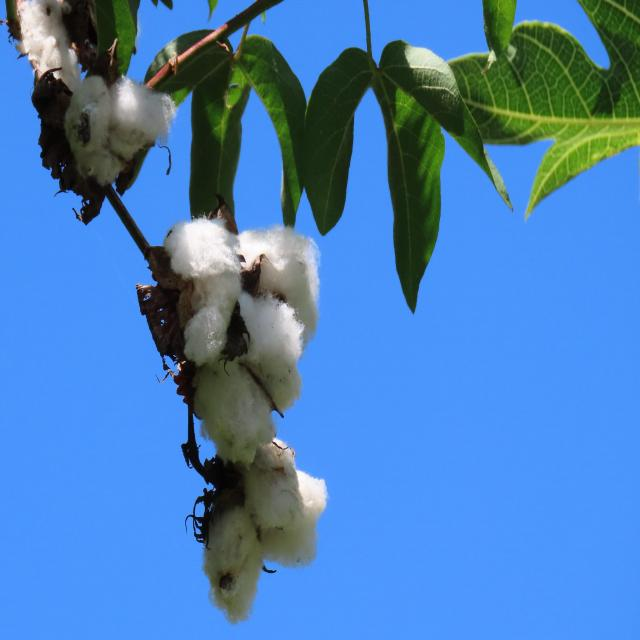Early_blight: (157, 219, 321, 458), (204, 438, 328, 626), (68, 68, 172, 186)
